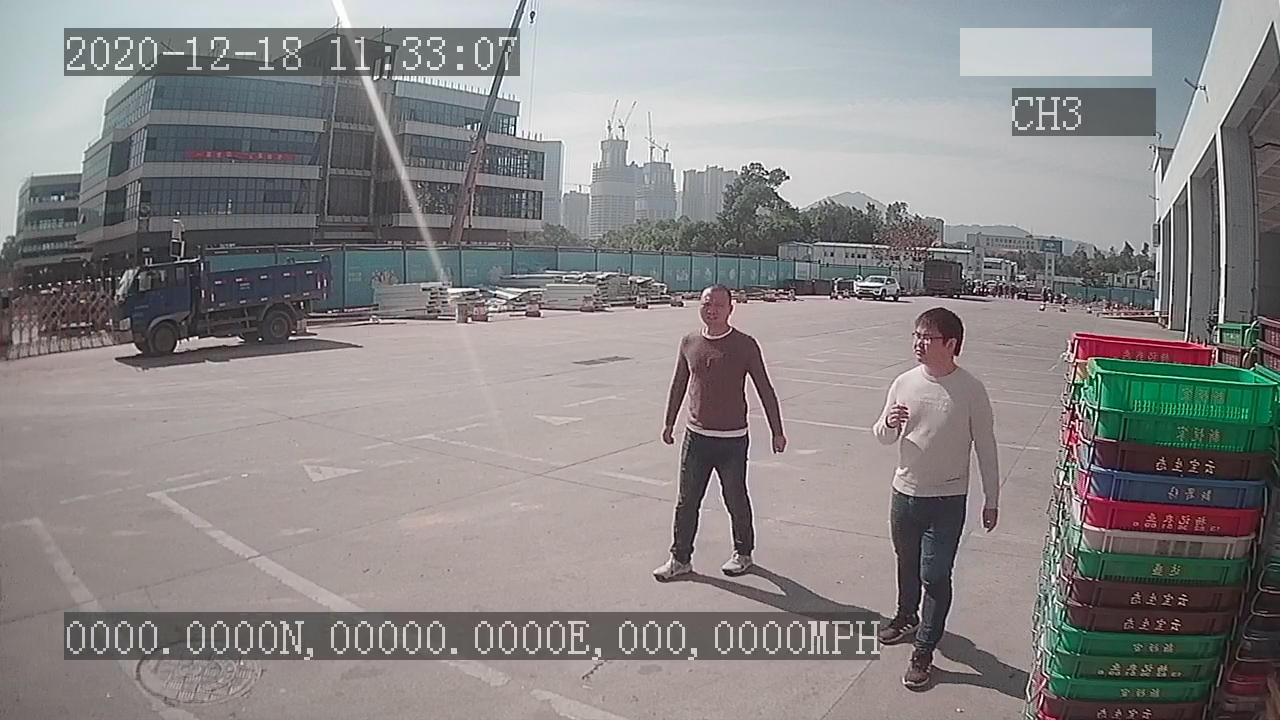person: (649, 277, 788, 585)
